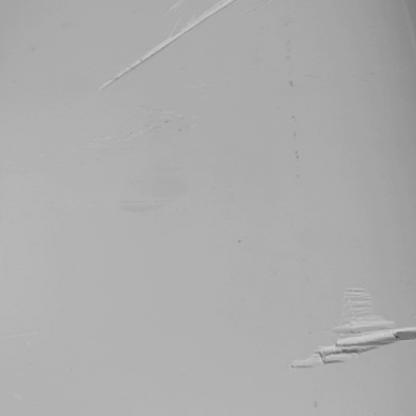sunshang: (94, 1, 240, 91), (294, 285, 416, 370)
